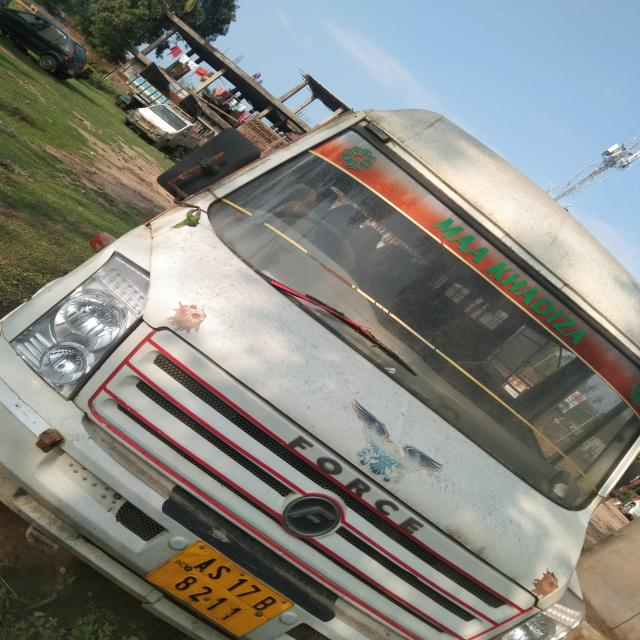Car: (0, 8, 87, 79)
Traveller: (0, 110, 638, 640)
